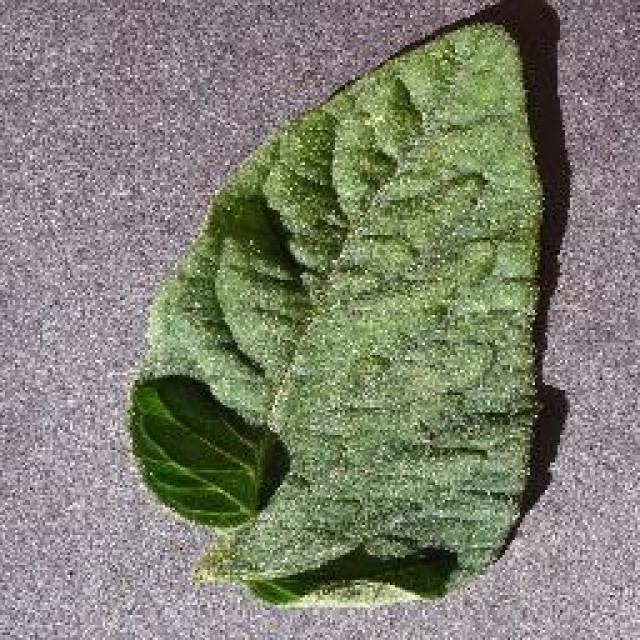Healthy: (128, 19, 552, 614)
